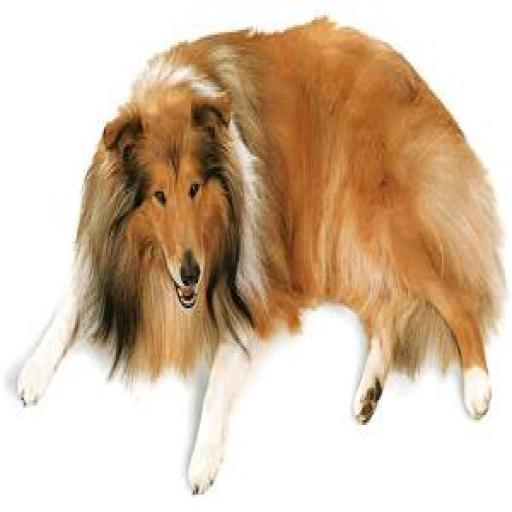dog_face: (95, 95, 236, 318)
